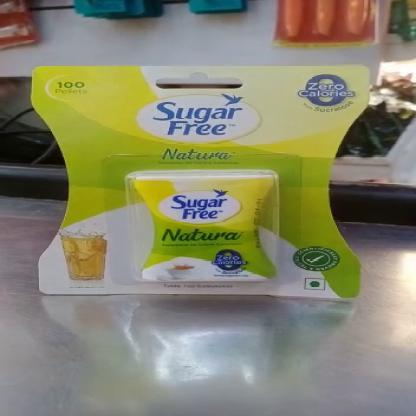SUGAR FREE NATURA 500 PELLET: (34, 66, 364, 300)
